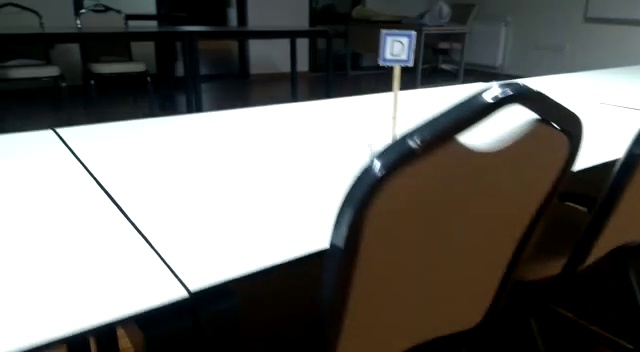durak: (380, 32, 413, 65)
